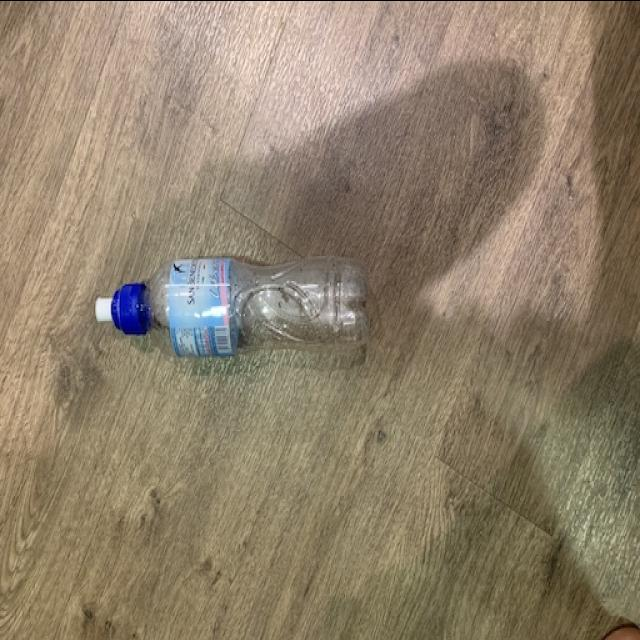litter: (92, 252, 374, 358)
